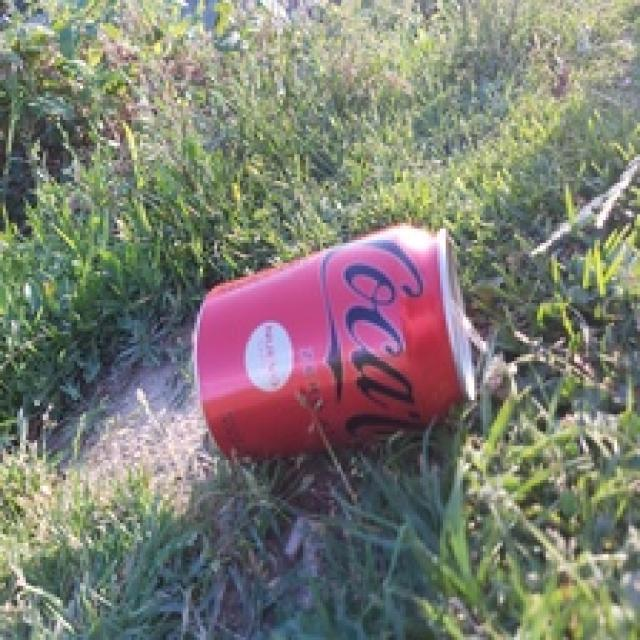recyclable: (192, 222, 476, 464)
